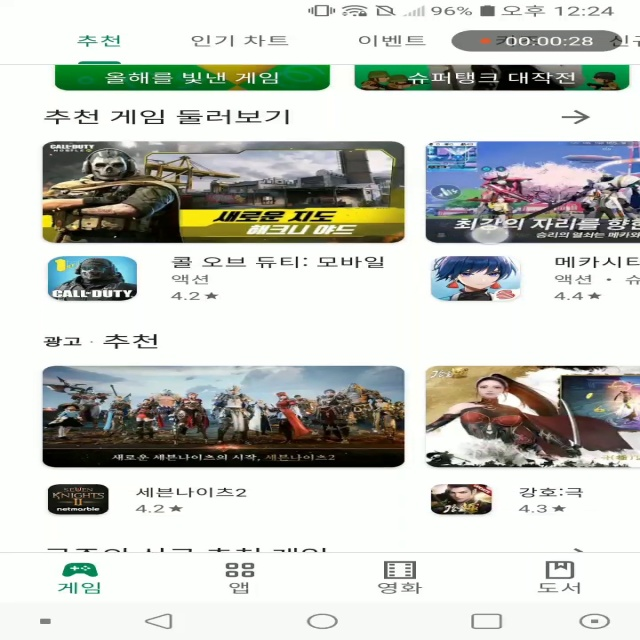Cursor: (469, 224, 513, 246)
